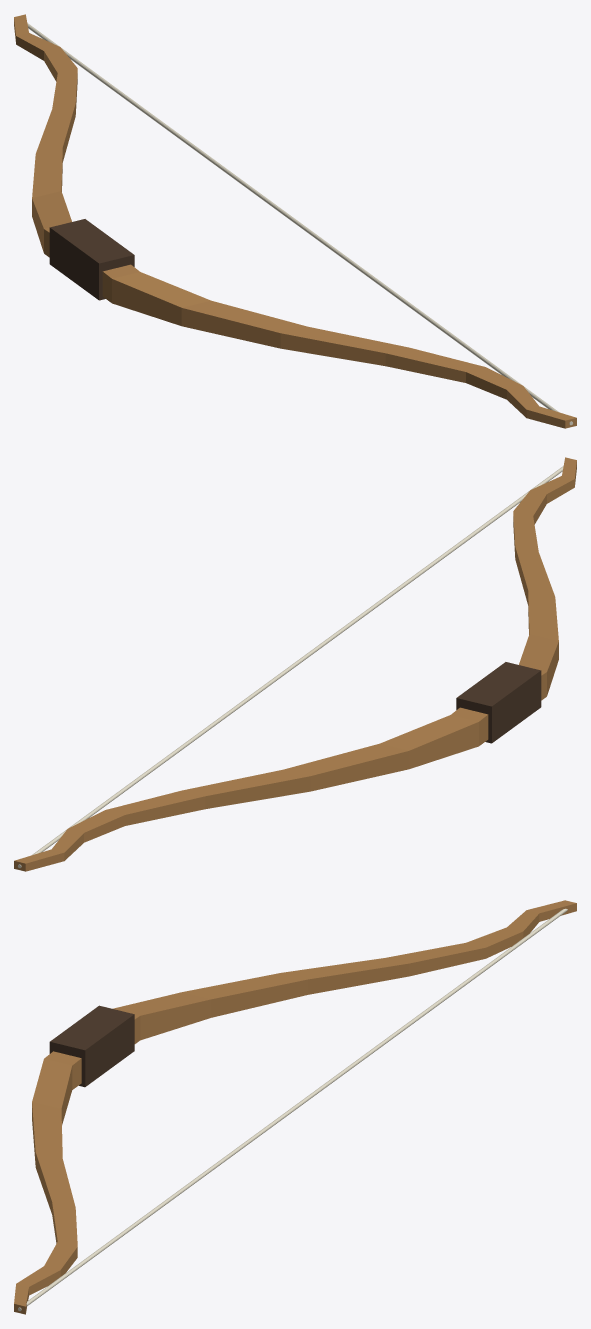
3 views of the same model, one above another, from view 1: azimuth 30°, elevation 25°; view 2: azimuth 150°, elevation 25°; view 3: azimuth 330°, elevation 25° (orthographic).
Parts seen in each view (by area): view 1: WholeContinuousDoubleRecurvedLimbsAndCore, WholeCentralGripGroundSole, WholeFixedTipToTipCord; view 2: WholeContinuousDoubleRecurvedLimbsAndCore, WholeCentralGripGroundSole, WholeFixedTipToTipCord; view 3: WholeContinuousDoubleRecurvedLimbsAndCore, WholeCentralGripGroundSole, WholeFixedTipToTipCord.
Boxes of the visible parts, left/top/right/bottom form: WholeContinuousDoubleRecurvedLimbsAndCore: left=14, top=14, right=576, bottom=428; WholeCentralGripGroundSole: left=49, top=219, right=134, bottom=300; WholeFixedTipToTipCord: left=27, top=23, right=572, bottom=425; WholeContinuousDoubleRecurvedLimbsAndCore: left=14, top=457, right=576, bottom=871; WholeCentralGripGroundSole: left=456, top=662, right=541, bottom=743; WholeFixedTipToTipCord: left=18, top=466, right=563, bottom=868; WholeContinuousDoubleRecurvedLimbsAndCore: left=14, top=900, right=576, bottom=1314; WholeCentralGripGroundSole: left=49, top=1005, right=134, bottom=1087; WholeFixedTipToTipCord: left=18, top=908, right=567, bottom=1311.
Size of the model in its own units: 0.385 by 0.06 by 1.62.
